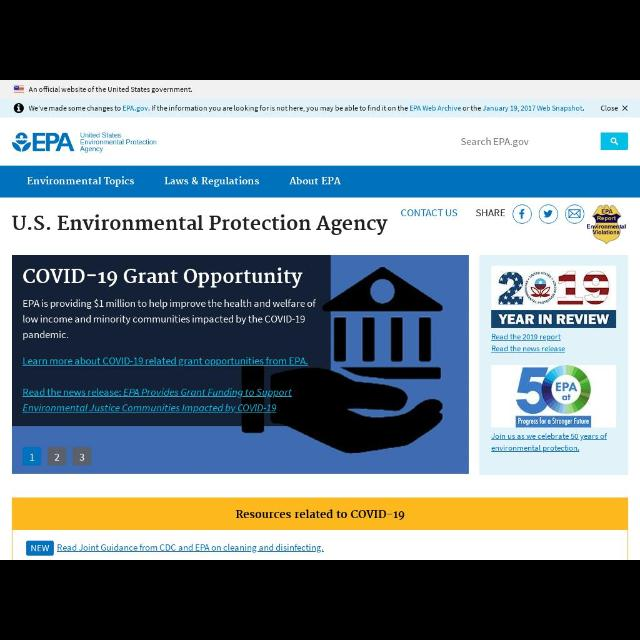backgroundimage: (12, 256, 470, 474)
button: (602, 132, 628, 150)
icon: (565, 204, 585, 224), (512, 204, 532, 223), (538, 204, 558, 223), (13, 102, 24, 114), (611, 138, 619, 146), (622, 105, 628, 111)
image: (492, 266, 616, 328), (492, 366, 616, 428), (588, 204, 626, 244), (12, 133, 74, 153), (13, 85, 24, 93)
input: (459, 132, 629, 150)
link: (22, 356, 308, 366), (23, 388, 293, 398), (57, 544, 325, 554), (22, 404, 278, 414), (492, 432, 608, 453), (491, 333, 561, 342), (492, 345, 566, 353)
multitab: (1, 166, 639, 198)
pageindicator: (22, 448, 92, 467)
text: (22, 298, 316, 340), (12, 214, 388, 236), (23, 268, 303, 290), (28, 105, 586, 112), (498, 310, 610, 328), (80, 132, 158, 154), (237, 510, 405, 520), (29, 86, 193, 94), (27, 176, 134, 188), (164, 176, 260, 188), (516, 416, 592, 428), (461, 138, 529, 148), (400, 208, 458, 218), (290, 177, 340, 186), (476, 208, 506, 218), (31, 544, 49, 552), (601, 106, 619, 112)
toolbar: (1, 118, 638, 166)
